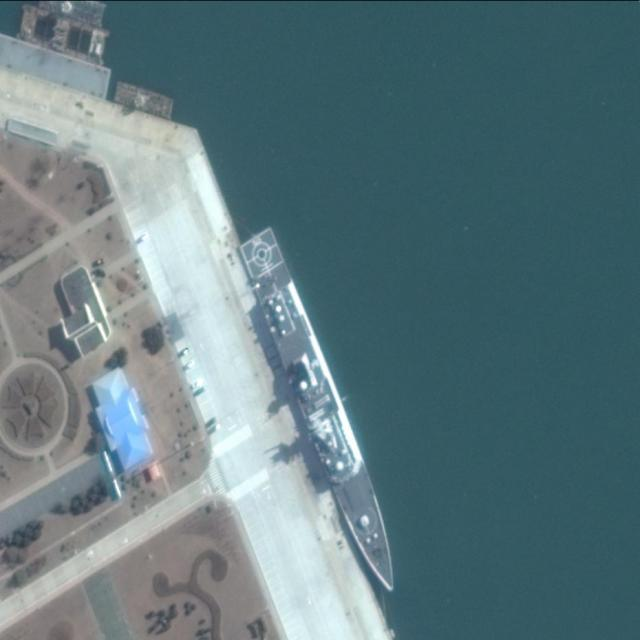Auxiliary Ships: (232, 225, 414, 602)
